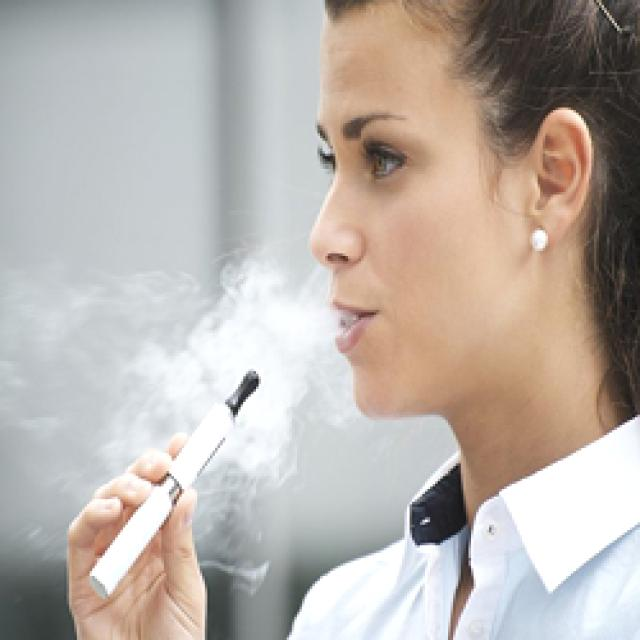Smooking: (71, 357, 318, 618)
